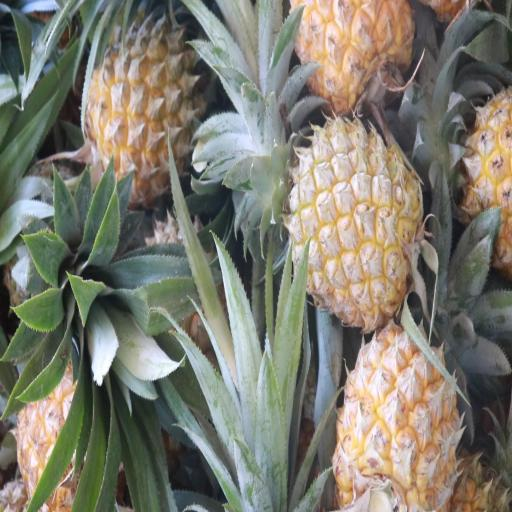------------------------------: (86, 25, 210, 199)
Pineapple - v8 v1: (289, 120, 421, 327), (332, 324, 462, 512), (428, 58, 512, 257), (293, 0, 411, 114)
